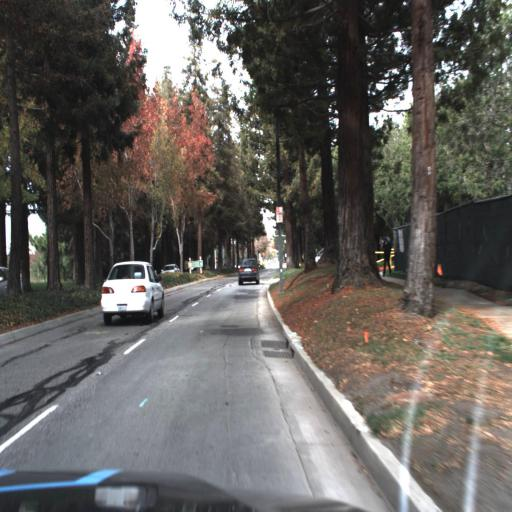car: (99, 255, 169, 327), (236, 255, 261, 289)
